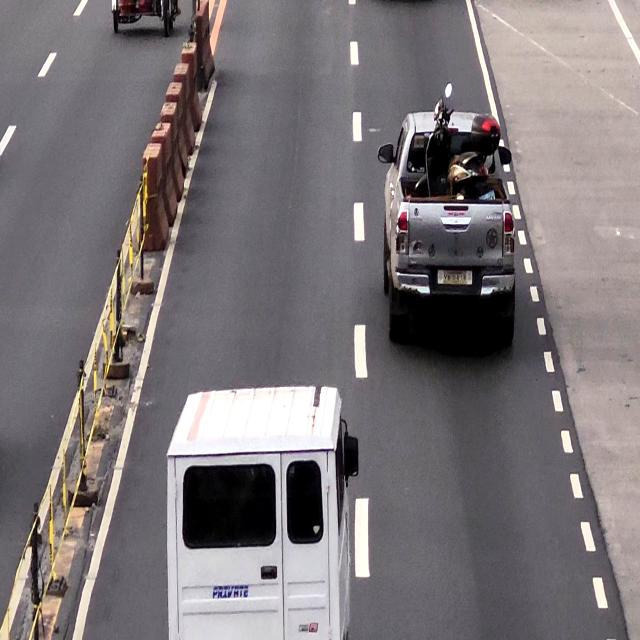Car: (382, 112, 509, 341)
Jeep: (170, 387, 350, 640)
License-Plate: (441, 270, 468, 290)
